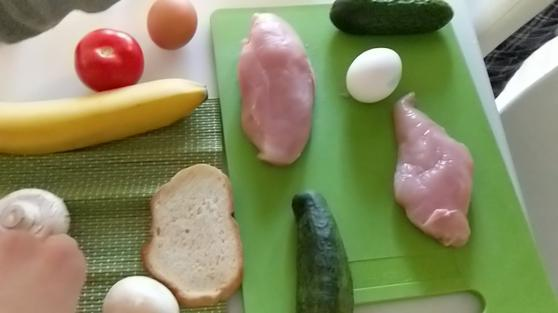banana: (3, 79, 208, 157)
champignon: (1, 189, 71, 240), (100, 275, 176, 313)
chicken_fillet: (391, 92, 475, 247), (238, 10, 315, 167)
cucumber: (289, 189, 354, 313), (330, 1, 451, 35)
egg: (344, 46, 401, 104), (148, 1, 198, 49)
tomato: (76, 28, 146, 92)
white_bread: (149, 165, 245, 303)
